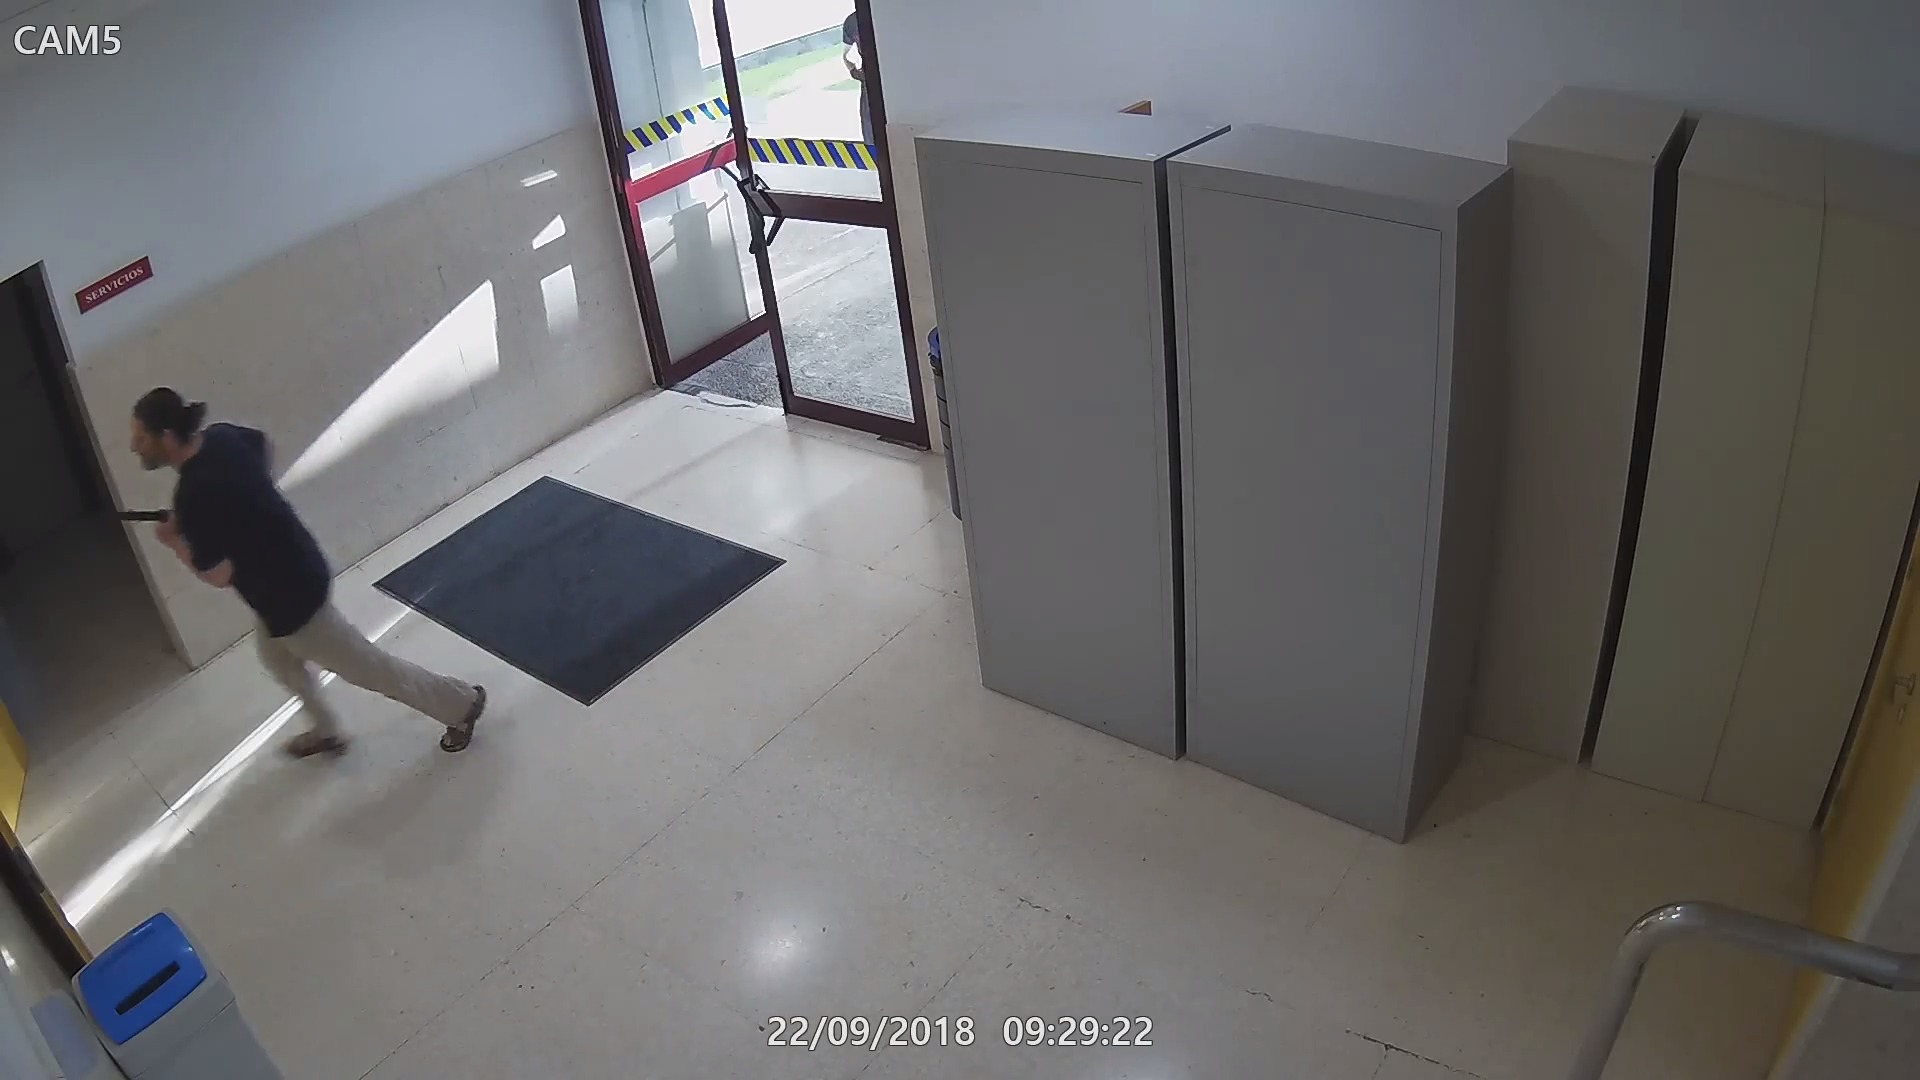rifle: (105, 502, 187, 560)
